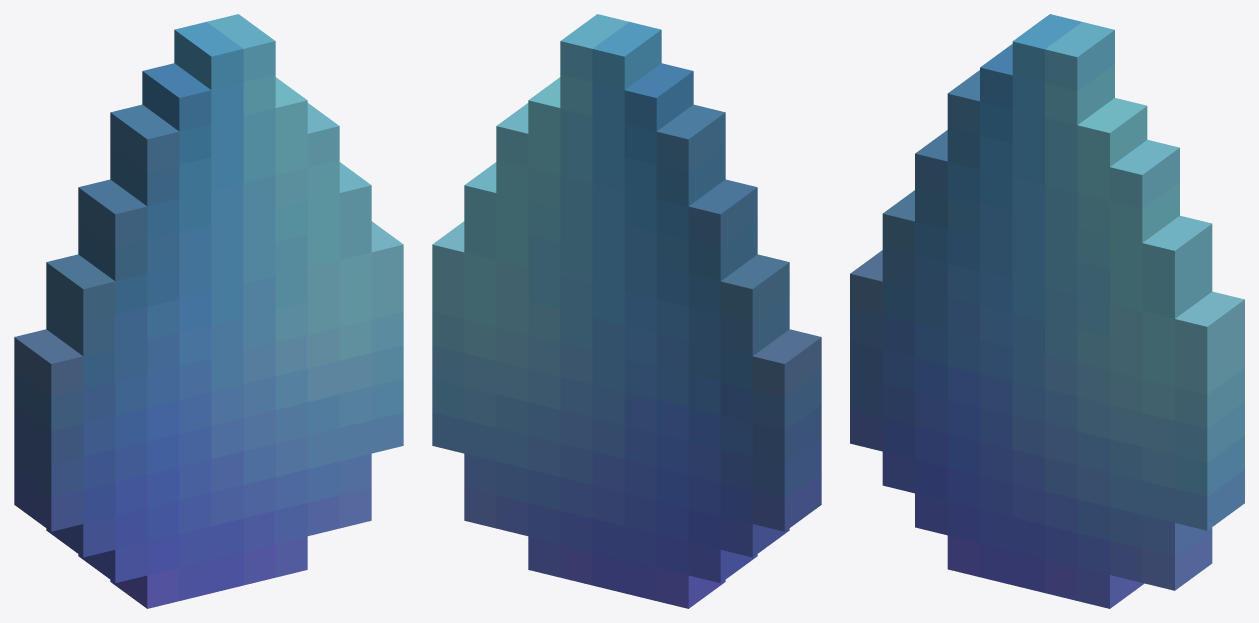
File: droplet.glb
3 views of the same model, side by side, from view 1: azimuth 30°, elevation 25°; view 2: azimuth 150°, elevation 25°; view 3: azimuth 330°, elevation 25° (orthographic).
Visible parts, largest first — view 1: prop; view 2: prop; view 3: prop.
Part boxes in pixels (x1,y1,x2,y2): prop: (14, 14, 403, 608); prop: (432, 14, 821, 608); prop: (850, 14, 1244, 608).
Bounding box in the file's own units: 11 × 16 × 2.
